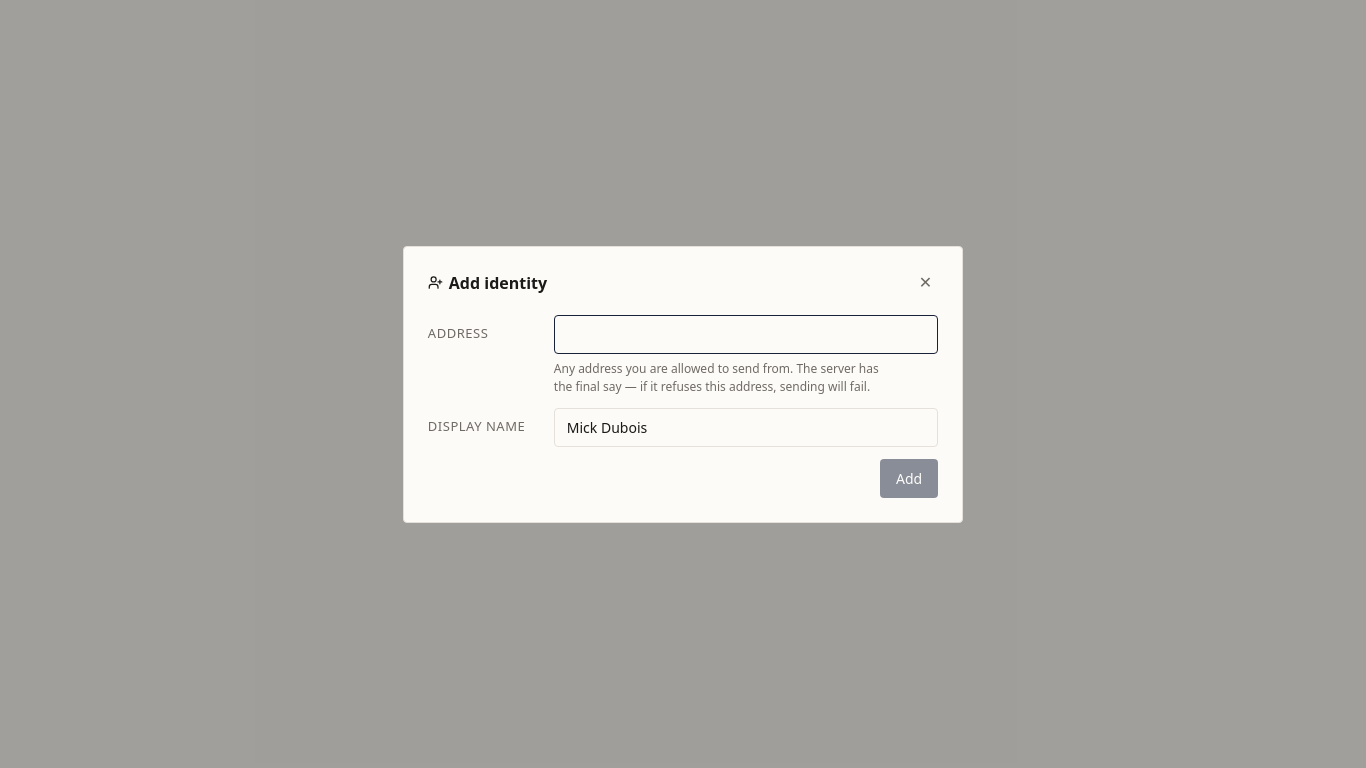
it: IdentityDialog › freeAddress › refuses a malformed address and one the list already holds
Check: the button "Add" is disabled, box x1=880 y1=458 x2=938 y2=498
Type "not-an-address" into the field labelled "Address" at [746, 334], box x1=554 y1=314 x2=938 y2=354
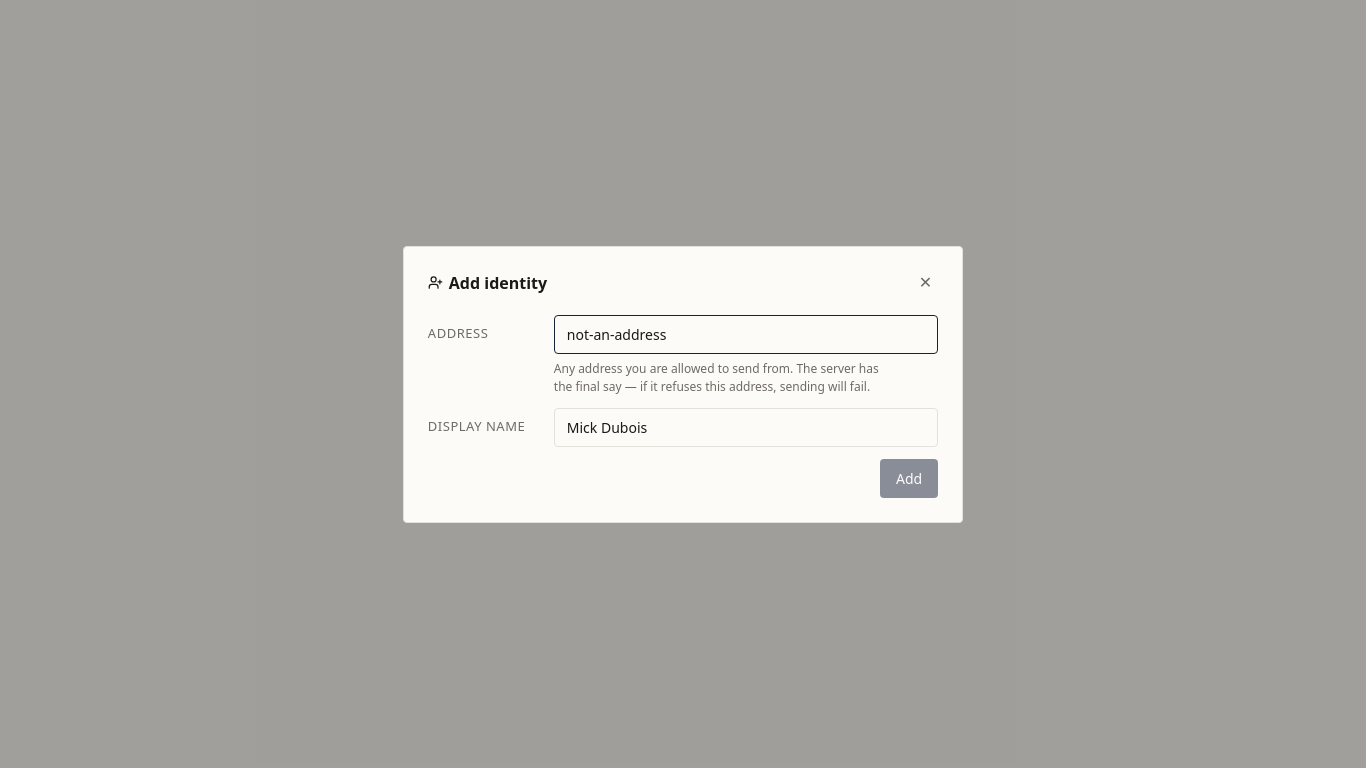
Check: the button "Add" is disabled, box x1=880 y1=458 x2=938 y2=498
Replace the text in the field labelled "Address" with "TAKEN@ext.example" at [746, 334], box x1=554 y1=314 x2=938 y2=354
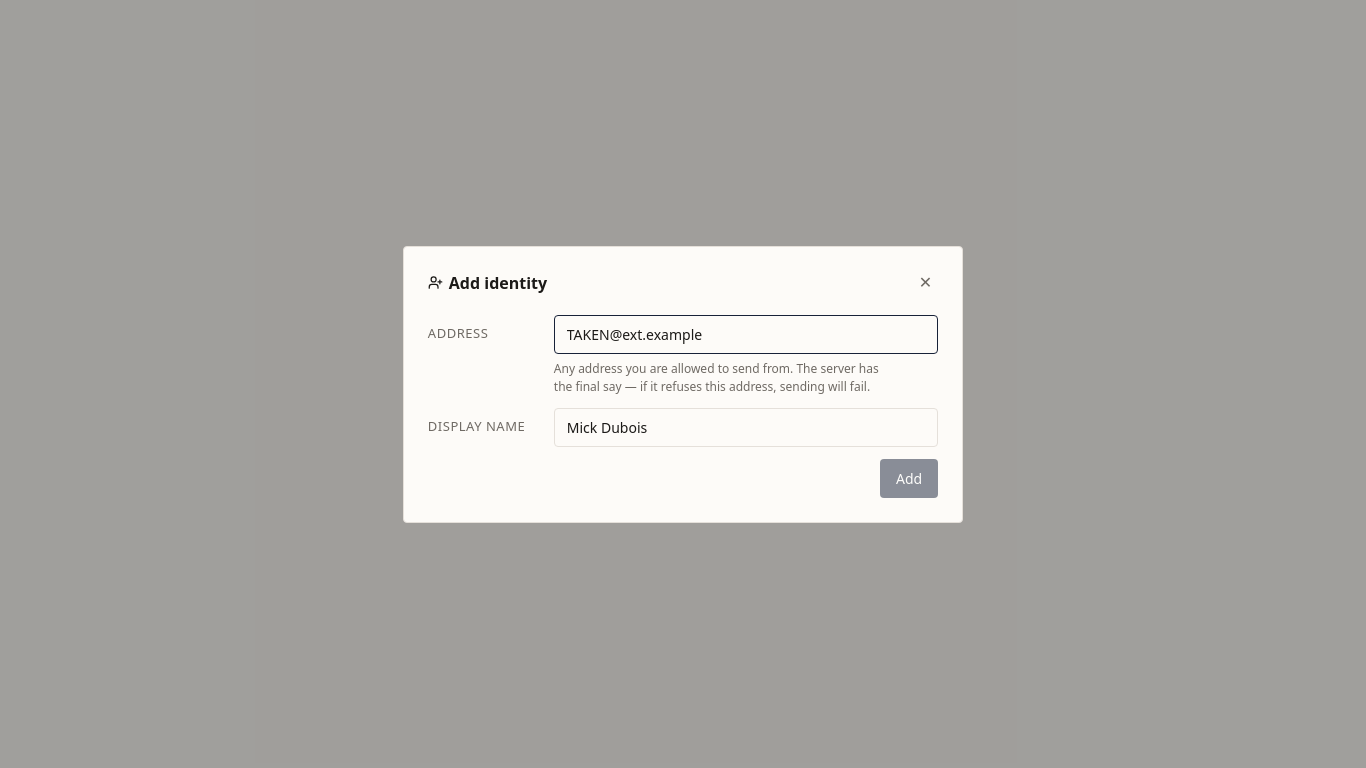
Check: the button "Add" is disabled, box x1=880 y1=458 x2=938 y2=498
Replace the text in the field labelled "Address" with "sales@ext.example" at [746, 334], box x1=554 y1=314 x2=938 y2=354
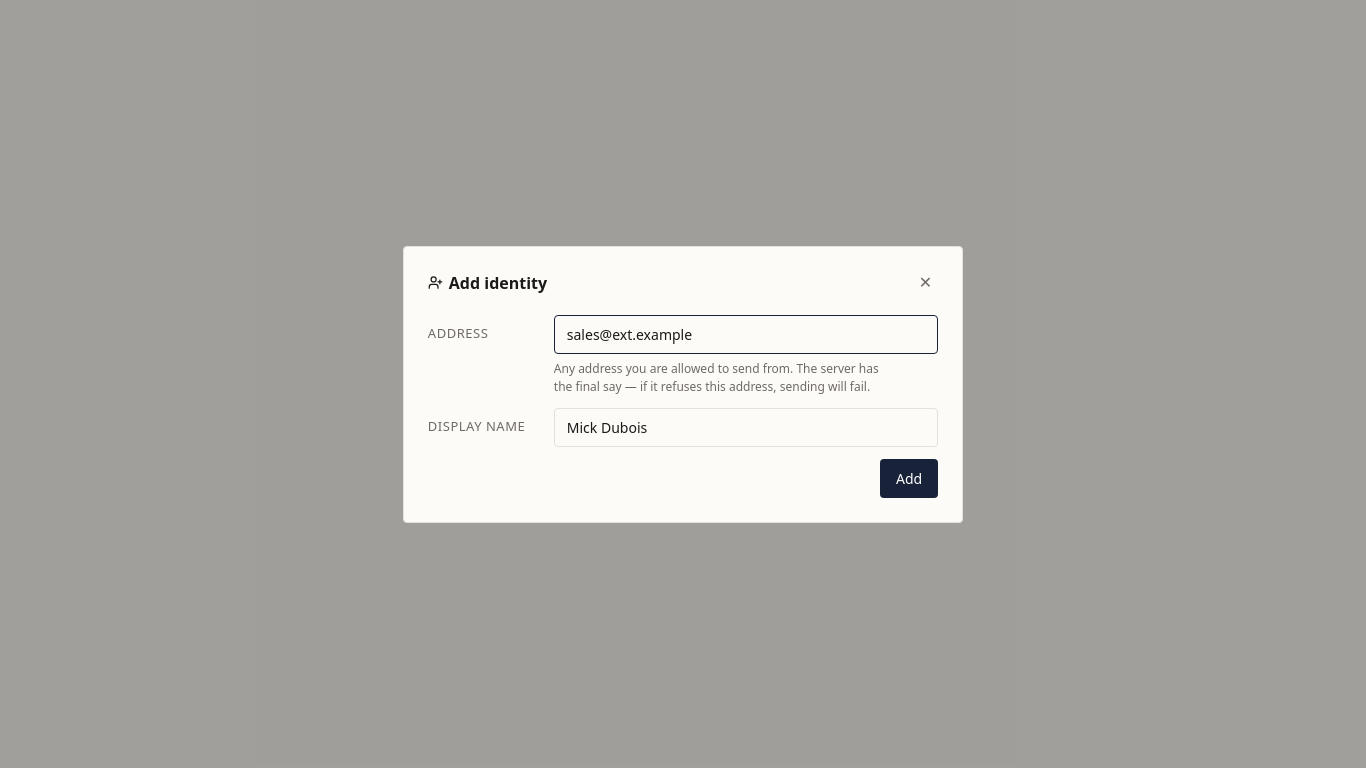
Check: the button "Add" is enabled, box x1=880 y1=458 x2=938 y2=498
